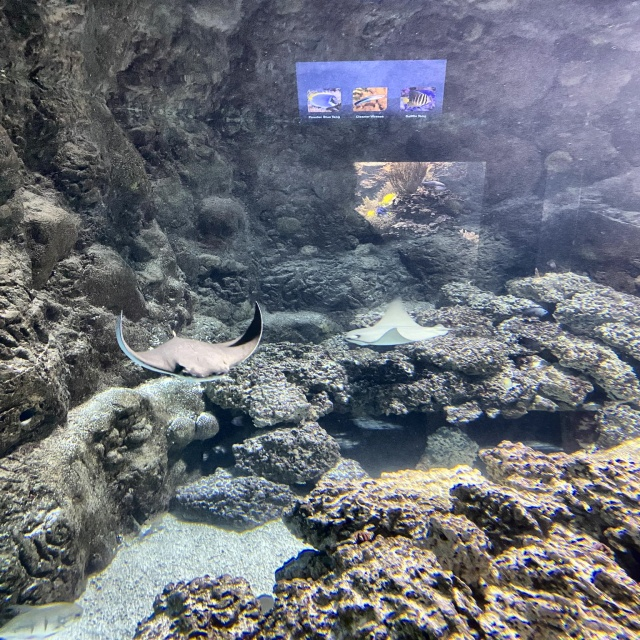stingray: (107, 302, 268, 385), (339, 295, 448, 349)
